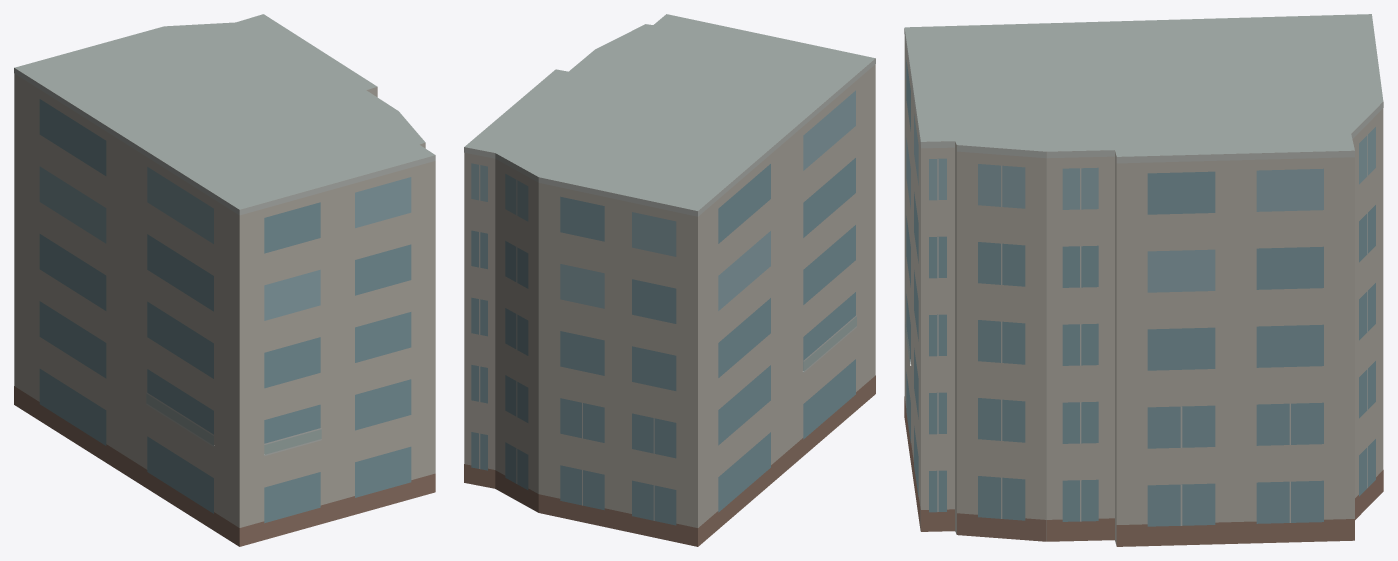
Rendered from survey-upis-32727554.glb.
3 renders of one model, left to right at view 1: azimuth 30°, elevation 25°; view 2: azimuth 150°, elevation 25°; view 3: azimuth 270°, elevation 25°, orthographic. The views are drawn at different scales.
Visible parts, largest first — view 1: survey-upis-32727554.tmp; view 2: survey-upis-32727554.tmp; view 3: survey-upis-32727554.tmp.
Boxes of the visible parts, x1,y1,x2,y2 form: survey-upis-32727554.tmp: (14, 14, 435, 546); survey-upis-32727554.tmp: (464, 14, 875, 546); survey-upis-32727554.tmp: (904, 14, 1383, 546).
Bounding box in the file's own units: 11.48 × 14.6 × 16.26.
